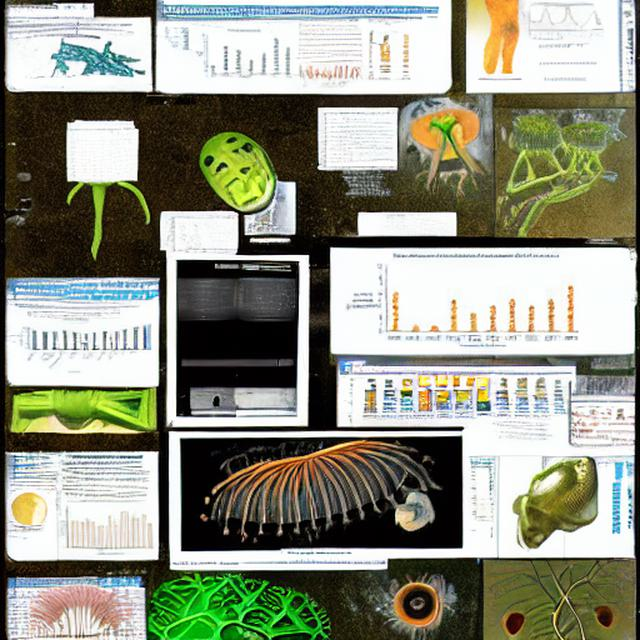Graph: (338, 250, 584, 353), (15, 310, 132, 377), (57, 499, 155, 557), (191, 27, 285, 82), (166, 215, 235, 257), (232, 277, 299, 317), (520, 5, 581, 41), (302, 60, 358, 92)
